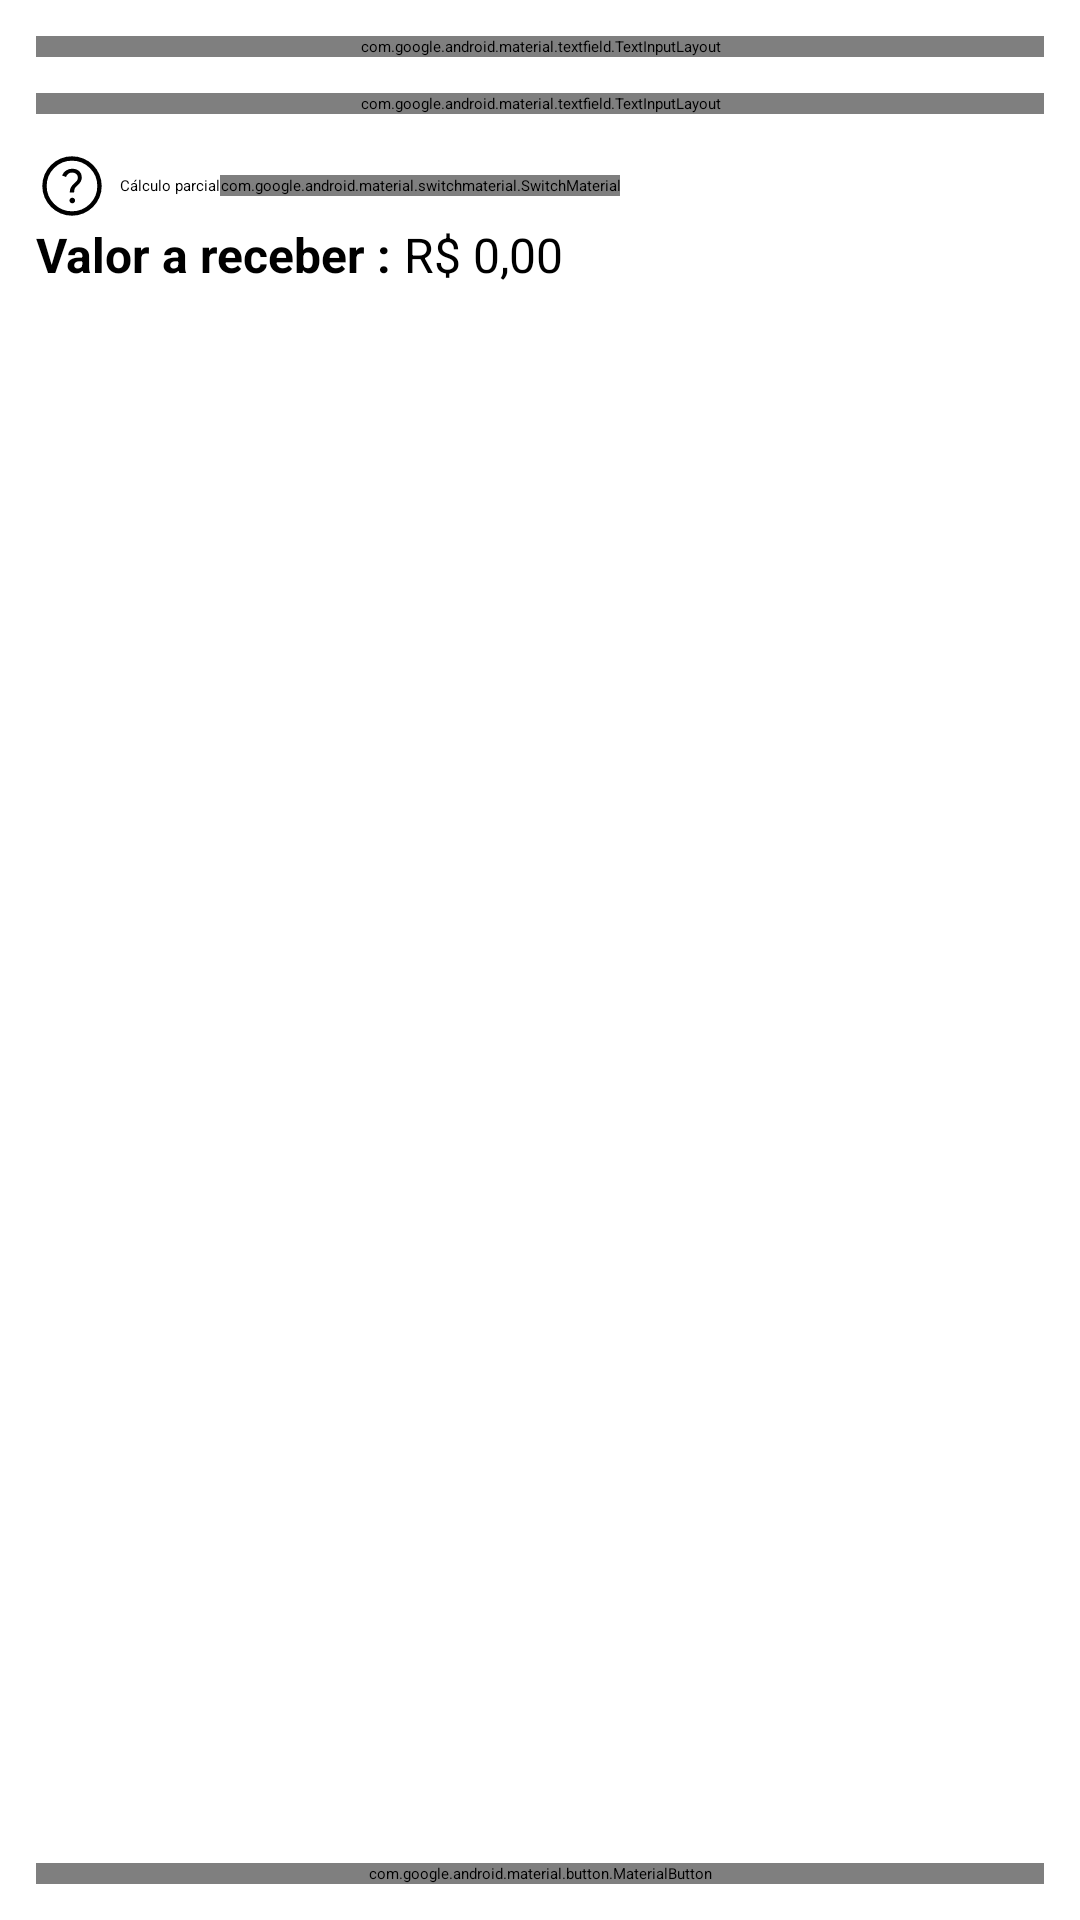

Screen size 1080px x 1920px. Icon name, then its center in pixels as point (x, y):
help: point (72, 186)
